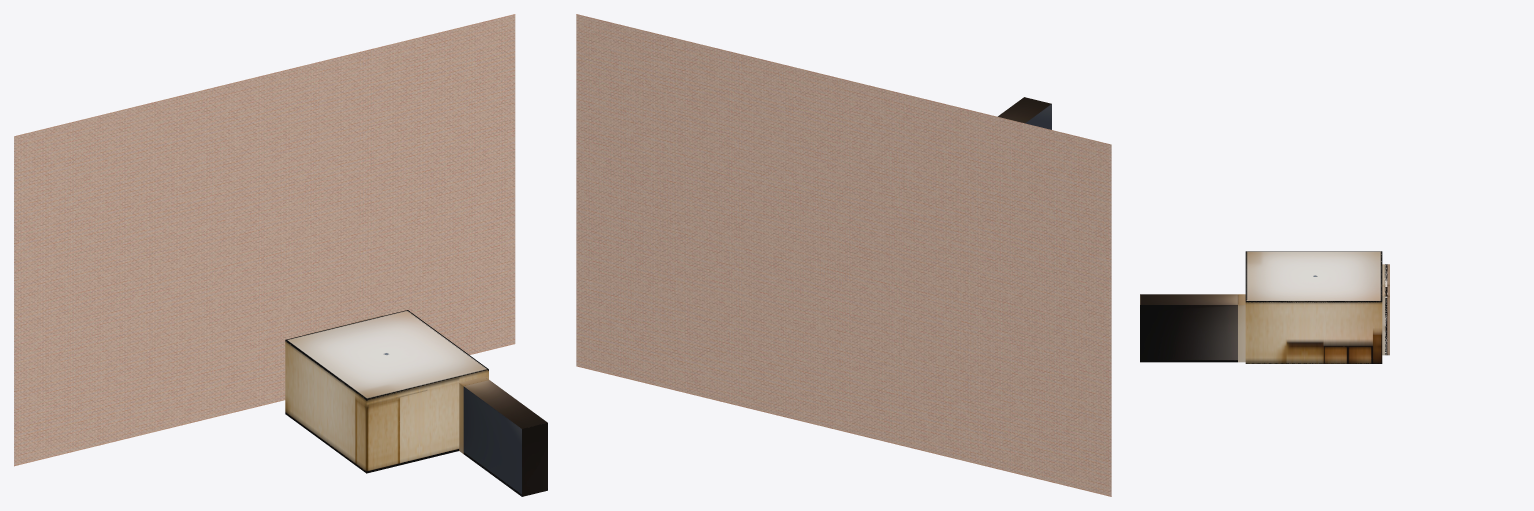
File: room.glb
The picture shows the model from 3 angles, left to right: view 1: azimuth 30°, elevation 25°; view 2: azimuth 150°, elevation 25°; view 3: azimuth 270°, elevation 25°; orthographic projection. The views are drawn at different scales.
Parts seen in each view (by area): view 1: Outside_Backdrop, Ceiling, Wall_y0, Wall_x0, Openings.007, Openings, Trim; view 2: Outside_Backdrop, Openings; view 3: Wall_x1, Ceiling, Openings.007, Openings.001, Openings, Trim.
Boxes of the visible parts, x1=… form: Outside_Backdrop: x1=14, y1=14, x2=515, y2=466; Ceiling: x1=287, y1=311, x2=488, y2=398; Wall_y0: x1=366, y1=370, x2=488, y2=472; Wall_x0: x1=285, y1=341, x2=366, y2=472; Openings.007: x1=463, y1=386, x2=547, y2=496; Openings: x1=464, y1=380, x2=547, y2=428; Trim: x1=285, y1=310, x2=488, y2=473; Outside_Backdrop: x1=576, y1=14, x2=1111, y2=496; Openings: x1=998, y1=97, x2=1051, y2=123; Wall_x1: x1=1245, y1=301, x2=1382, y2=363; Ceiling: x1=1245, y1=251, x2=1382, y2=301; Openings.007: x1=1140, y1=305, x2=1237, y2=362; Openings.001: x1=1238, y1=264, x2=1389, y2=362; Openings: x1=1140, y1=294, x2=1237, y2=304; Trim: x1=1245, y1=251, x2=1382, y2=363.
Bounding box in the file's own units: 15.89 × 10 × 12.41.
Materials: 28 (24 with a texture image).
